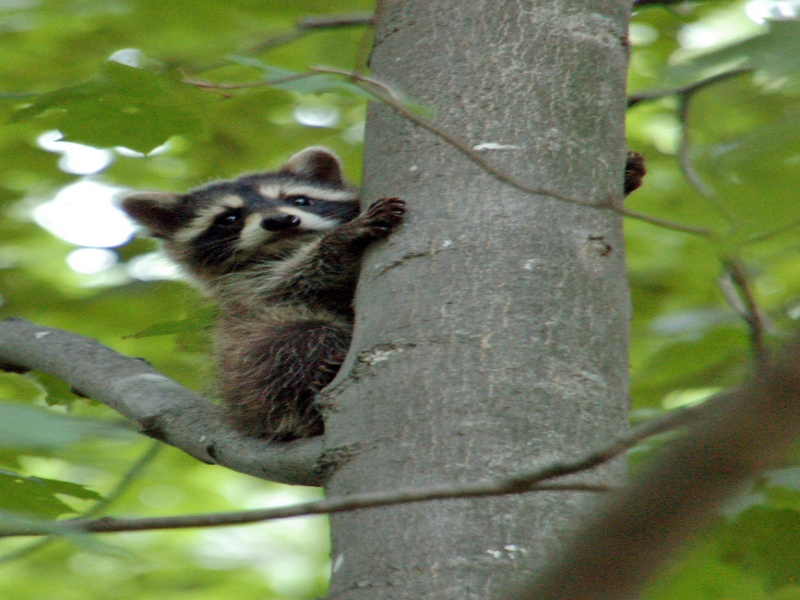raccoon: (117, 146, 409, 446)
